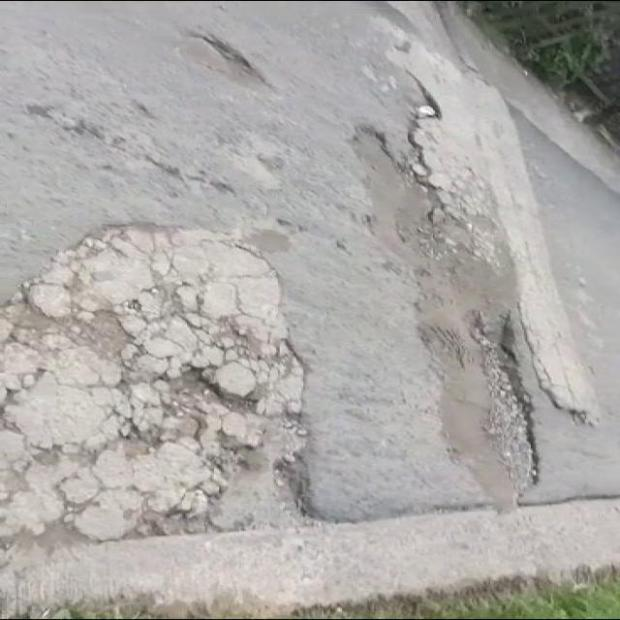lubang: (0, 227, 304, 565), (352, 113, 537, 506), (178, 32, 272, 91), (403, 63, 442, 178)
